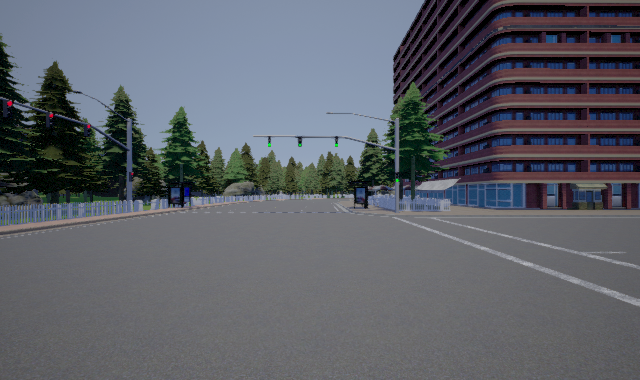traffic_light: (3, 100, 14, 118), (46, 112, 55, 128), (84, 124, 92, 137), (129, 172, 135, 182), (298, 136, 302, 147), (395, 172, 399, 182), (335, 136, 338, 147), (268, 136, 271, 147)
